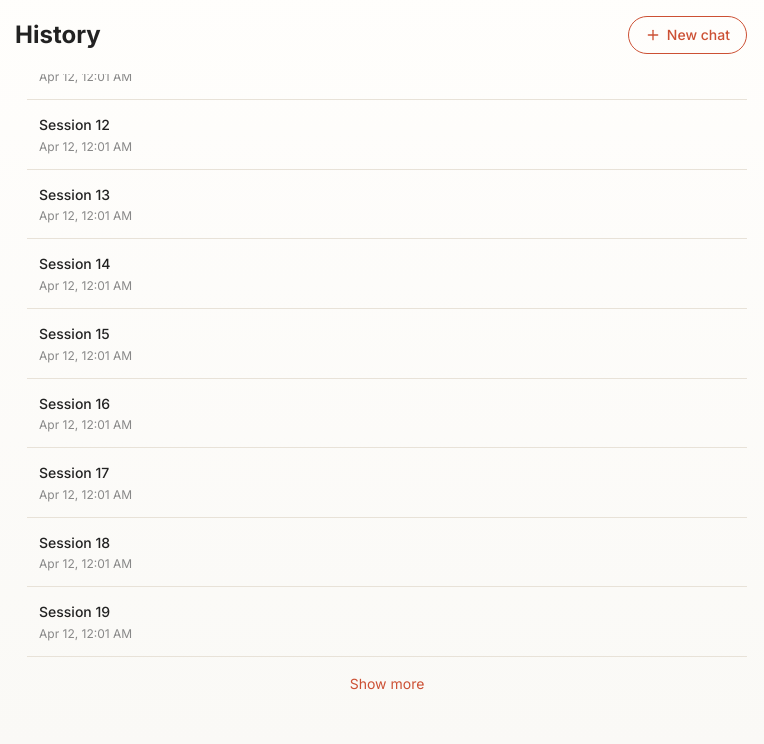
Test: HistoryMode › paginates in batches of 20 and preserves rows on failure
(page scrolled)
Click the button "Show more": (387, 684) left=27, top=664, right=747, bottom=704
(page scrolled)
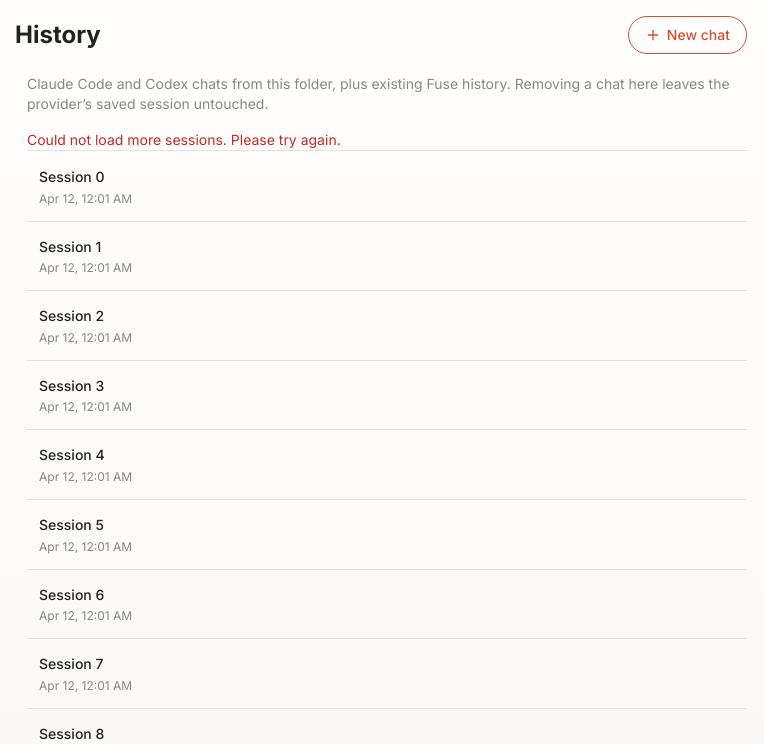
Now the text "Could not load more sessions. Please try again." is shown, box left=27, top=131, right=341, bottom=148
Now the text "Session 0" is shown, box left=39, top=168, right=104, bottom=185
